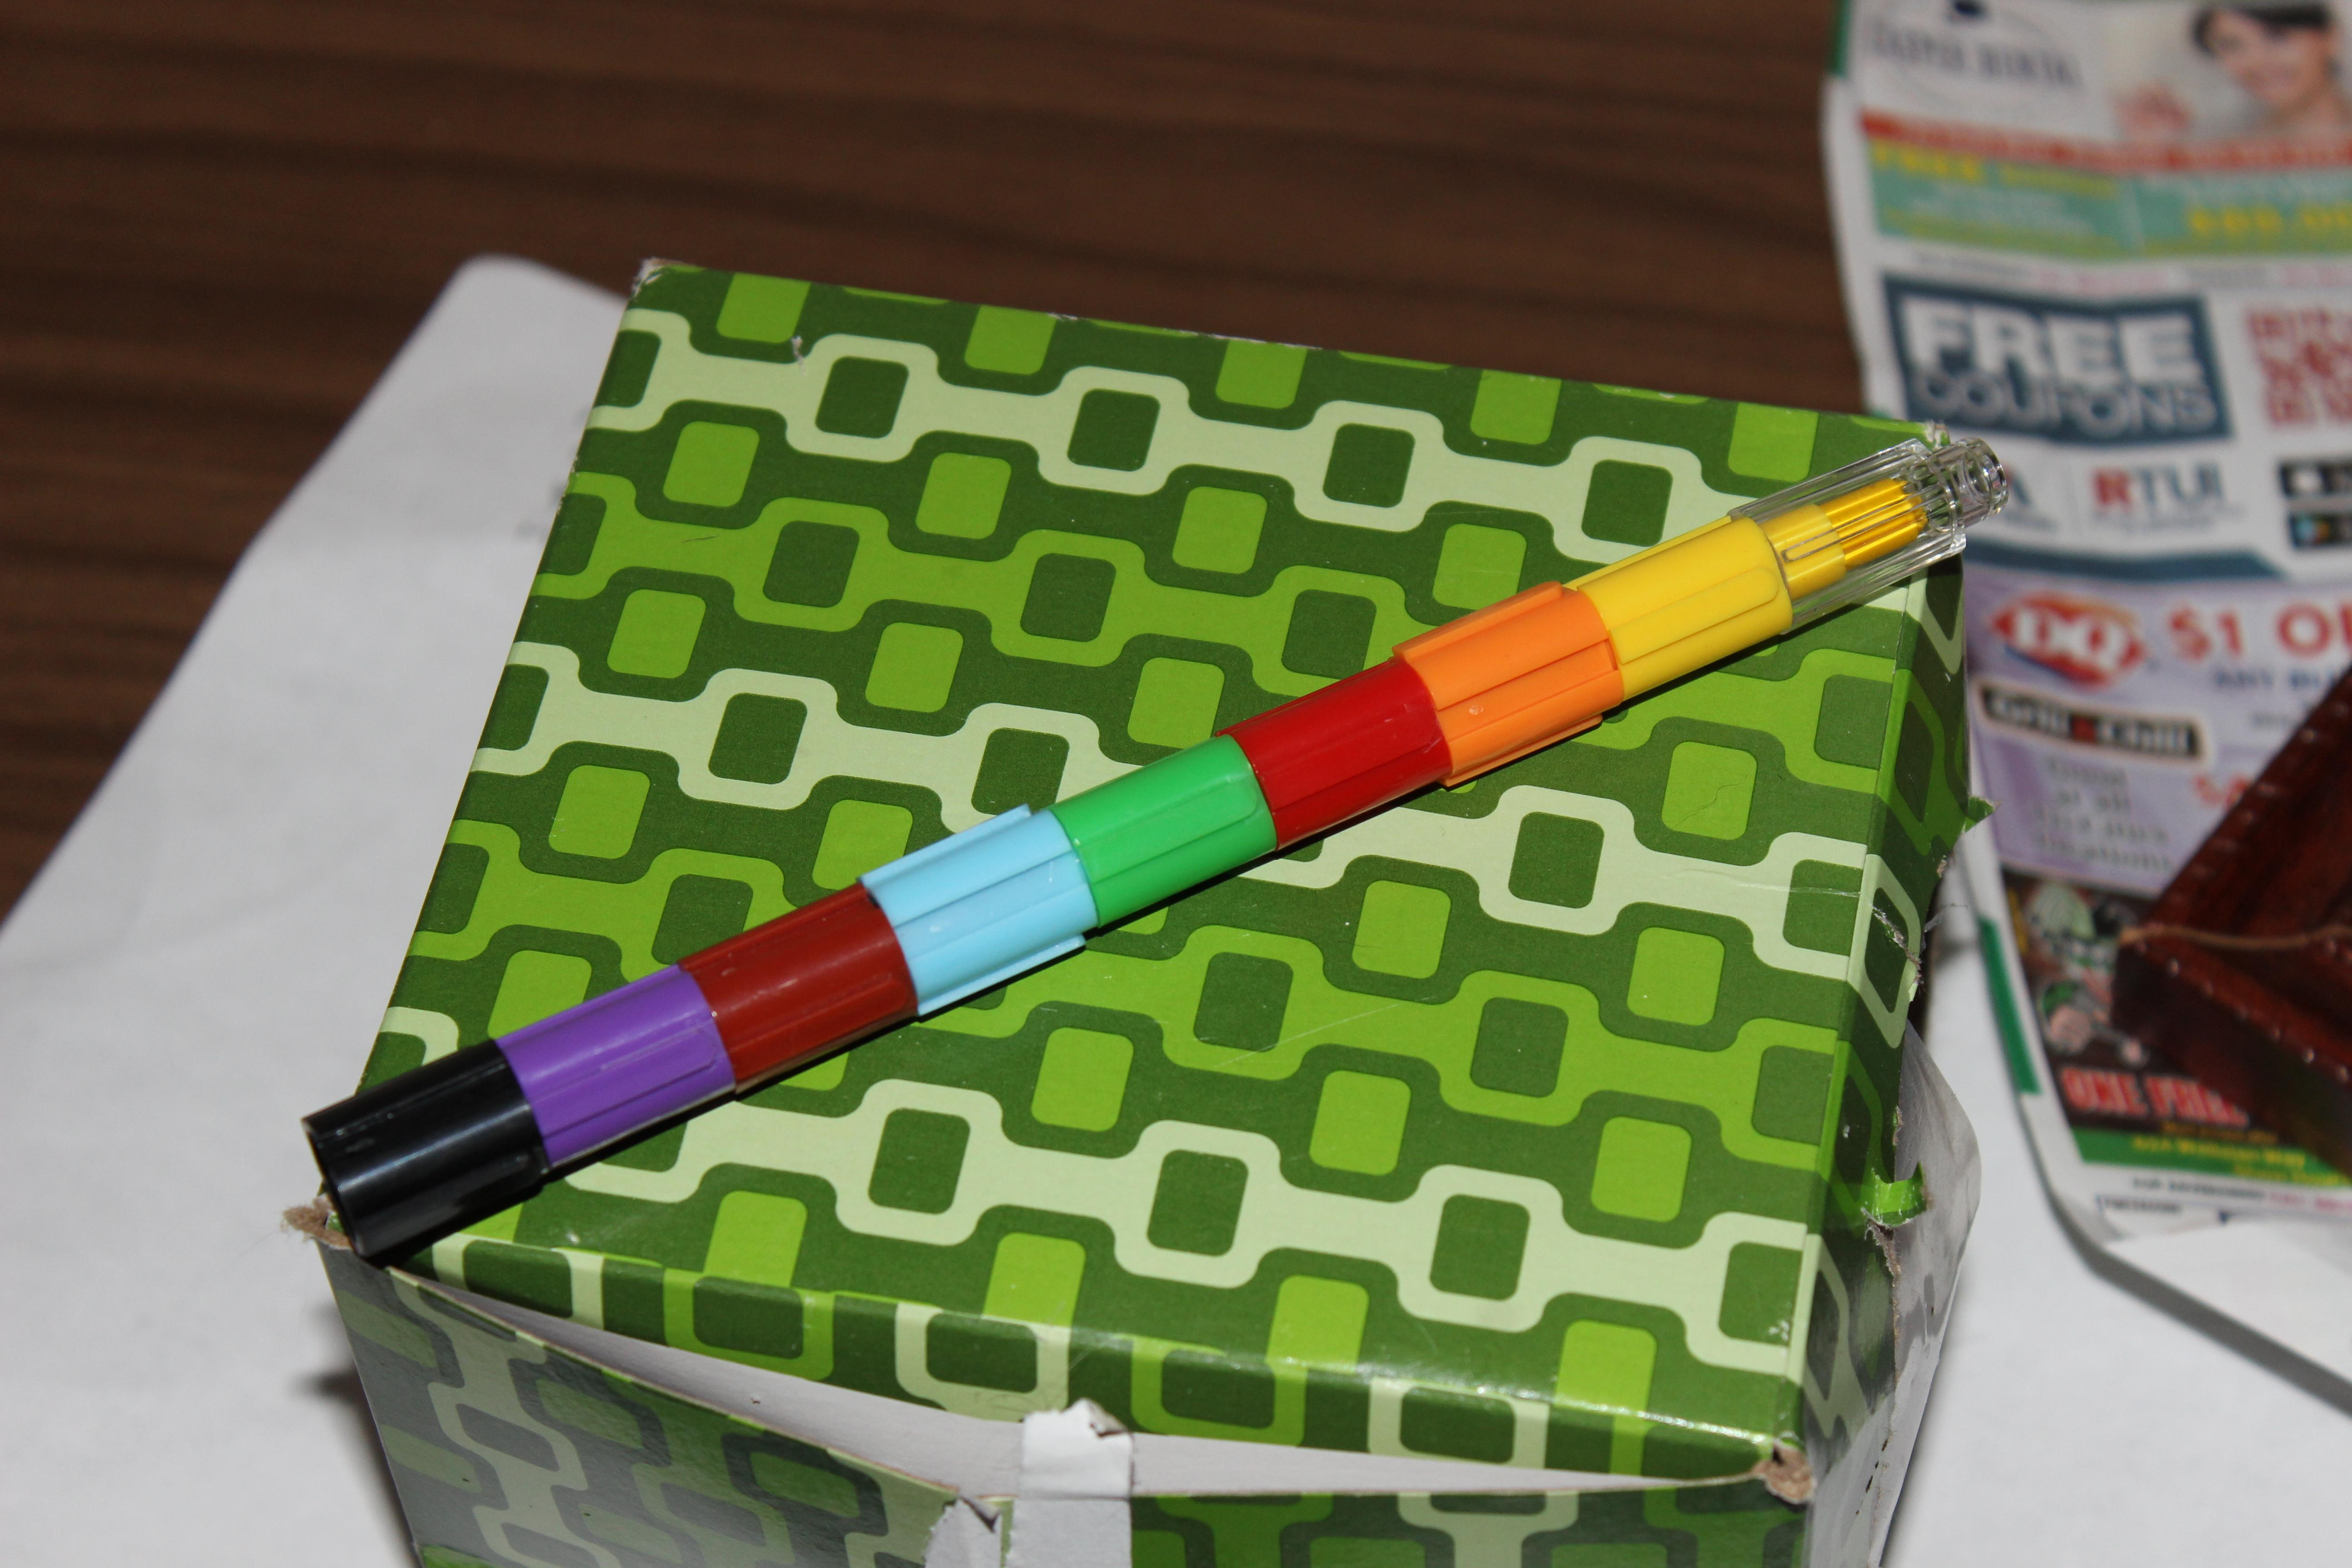rainbowPens: (255, 380, 2063, 1298)
